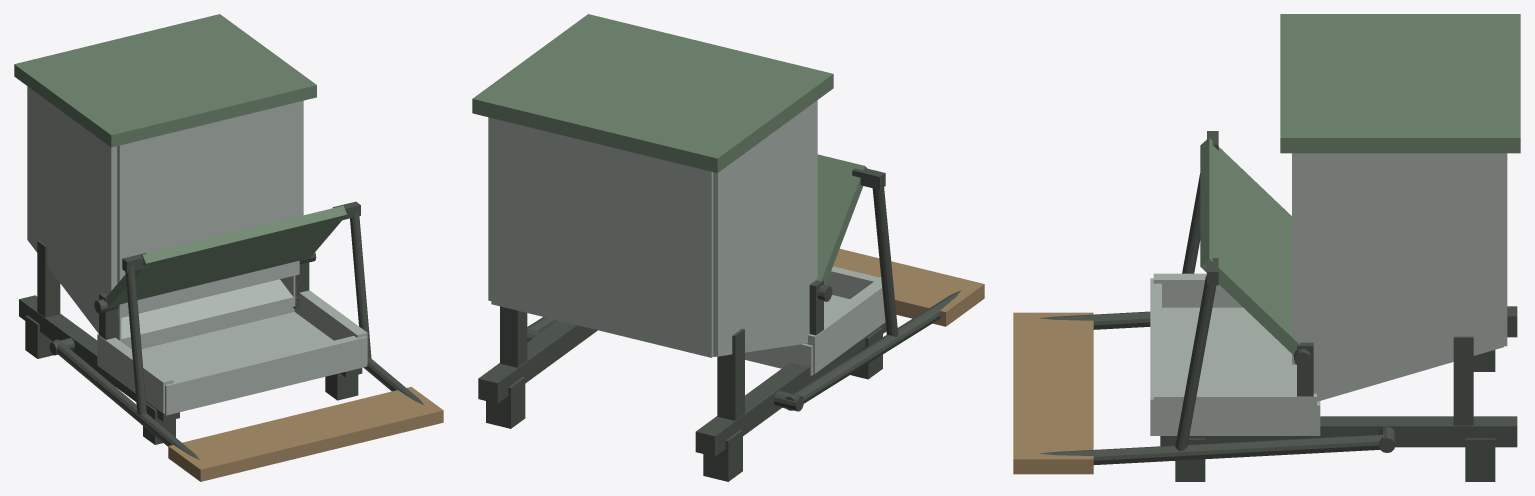
The picture shows the model from 3 angles, left to right: view 1: azimuth 30°, elevation 25°; view 2: azimuth 150°, elevation 25°; view 3: azimuth 270°, elevation 25°; orthographic projection. The views are drawn at different scales.
Visible parts, largest first — view 1: WholeHopperFrontAboveRealOutlet, WholeClosedHopperTopCap, WholeTallStorageSide0, WholeLowFrontReceivingTrough, WholeWideFrontTreadPlate, WholeFixedOpenFeedingTroughCover, WholeInclinedStorageHopperFloor, WholeLowSideSupportRail0, WholeReceivingTroughEnd0, WholeLongSideTreadleLever0, WholeReceivingTroughEnd1, WholeRisingSideCoverRod0 (+9 smaller); view 2: WholeTallHopperBack, WholeClosedHopperTopCap, WholeTallStorageSide0, WholeWideFrontTreadPlate, WholeLowSideSupportRail0, WholeFixedOpenFeedingTroughCover, WholeReceivingTroughEnd0, WholeLowSideSupportRail1, WholeLongSideTreadleLever0, WholeLowFrontReceivingTrough, WholeHopperSideSupportPost0, WholeRisingSideCoverRod0 (+6 smaller); view 3: WholeTallStorageSide1, WholeClosedHopperTopCap, WholeWideFrontTreadPlate, WholeFixedOpenFeedingTroughCover, WholeLowFrontReceivingTrough, WholeReceivingTroughEnd1, WholeLowSideSupportRail1, WholeLongSideTreadleLever1, WholeRisingSideCoverRod1, WholeReceivingTroughEnd0, WholeHopperSideSupportPost1, WholeGroundFrameFoot1_1 (+6 smaller).
Boxes of the visible parts, bbox=[...] form: WholeHopperFrontAboveRealOutlet: bbox=[117, 101, 299, 318]; WholeClosedHopperTopCap: bbox=[14, 14, 316, 147]; WholeTallStorageSide0: bbox=[27, 86, 121, 341]; WholeLowFrontReceivingTrough: bbox=[129, 307, 367, 415]; WholeWideFrontTreadPlate: bbox=[168, 386, 443, 481]; WholeFixedOpenFeedingTroughCover: bbox=[106, 205, 346, 307]; WholeInclinedStorageHopperFloor: bbox=[121, 279, 298, 346]; WholeLowSideSupportRail0: bbox=[19, 295, 179, 421]; WholeReceivingTroughEnd0: bbox=[97, 334, 173, 413]; WholeLongSideTreadleLever0: bbox=[53, 339, 199, 459]; WholeReceivingTroughEnd1: bbox=[294, 290, 367, 363]; WholeRisingSideCoverRod0: bbox=[125, 266, 146, 415]; WholeTallHopperBack: bbox=[491, 118, 713, 357]; WholeClosedHopperTopCap: bbox=[472, 14, 833, 172]; WholeTallStorageSide0: bbox=[713, 100, 817, 356]; WholeWideFrontTreadPlate: bbox=[833, 249, 984, 326]; WholeLowSideSupportRail0: bbox=[695, 322, 886, 456]; WholeFixedOpenFeedingTroughCover: bbox=[816, 154, 867, 284]; WholeReceivingTroughEnd0: bbox=[805, 277, 893, 373]; WholeLowSideSupportRail1: bbox=[478, 320, 597, 403]; WholeLongSideTreadleLever0: bbox=[785, 290, 961, 410]; WholeLowFrontReceivingTrough: bbox=[745, 266, 879, 375]; WholeHopperSideSupportPost0: bbox=[717, 328, 744, 420]; WholeRisingSideCoverRod0: bbox=[872, 187, 898, 336]; WholeTallStorageSide1: bbox=[1297, 153, 1503, 401]; WholeClosedHopperTopCap: bbox=[1280, 14, 1520, 153]; WholeWideFrontTreadPlate: bbox=[1013, 312, 1093, 474]; WholeFixedOpenFeedingTroughCover: bbox=[1200, 137, 1299, 355]; WholeLowFrontReceivingTrough: bbox=[1150, 278, 1320, 435]; WholeReceivingTroughEnd1: bbox=[1153, 390, 1316, 435]; WholeLowSideSupportRail1: bbox=[1160, 416, 1517, 447]; WholeLongSideTreadleLever1: bbox=[1039, 434, 1393, 464]; WholeRisingSideCoverRod1: bbox=[1175, 275, 1216, 451]; WholeReceivingTroughEnd0: bbox=[1153, 273, 1242, 307]; WholeHopperSideSupportPost1: bbox=[1453, 336, 1473, 425]; WholeGroundFrameFoot1_1: bbox=[1465, 438, 1495, 481].
Size of the model in its own units: 1.04 by 1.14 by 1.52.
